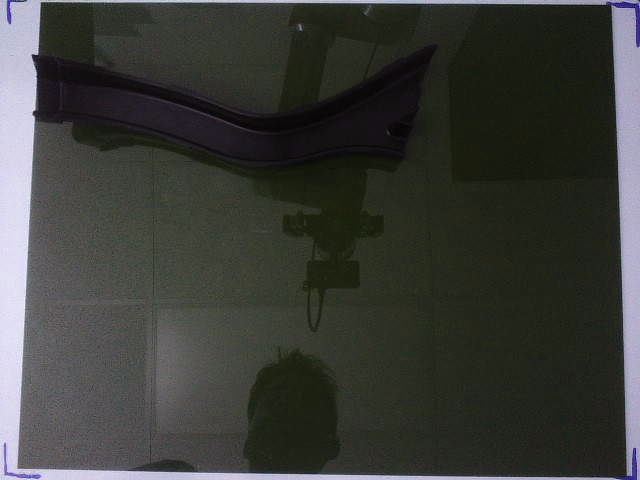887_B-Under: (32, 42, 438, 170)
